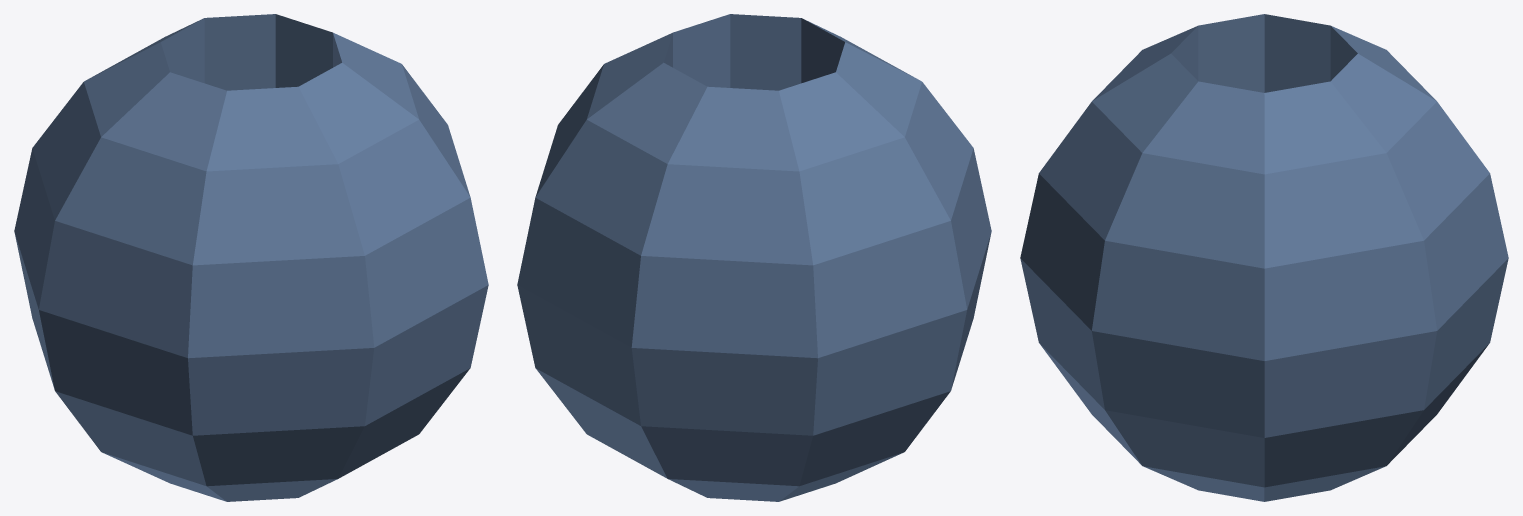
Rendered from ball.fbx.
3 views of the same model, side by side, from view 1: azimuth 30°, elevation 25°; view 2: azimuth 150°, elevation 25°; view 3: azimuth 270°, elevation 25° (orthographic).
Visible parts, largest first — view 1: balle; view 2: balle; view 3: balle.
Part boxes in pixels (bbox=[...]): balle: bbox=[14, 14, 488, 501]; balle: bbox=[517, 14, 991, 501]; balle: bbox=[1020, 14, 1508, 501].
Size of the model in its own units: 2 by 1.85 by 2.
